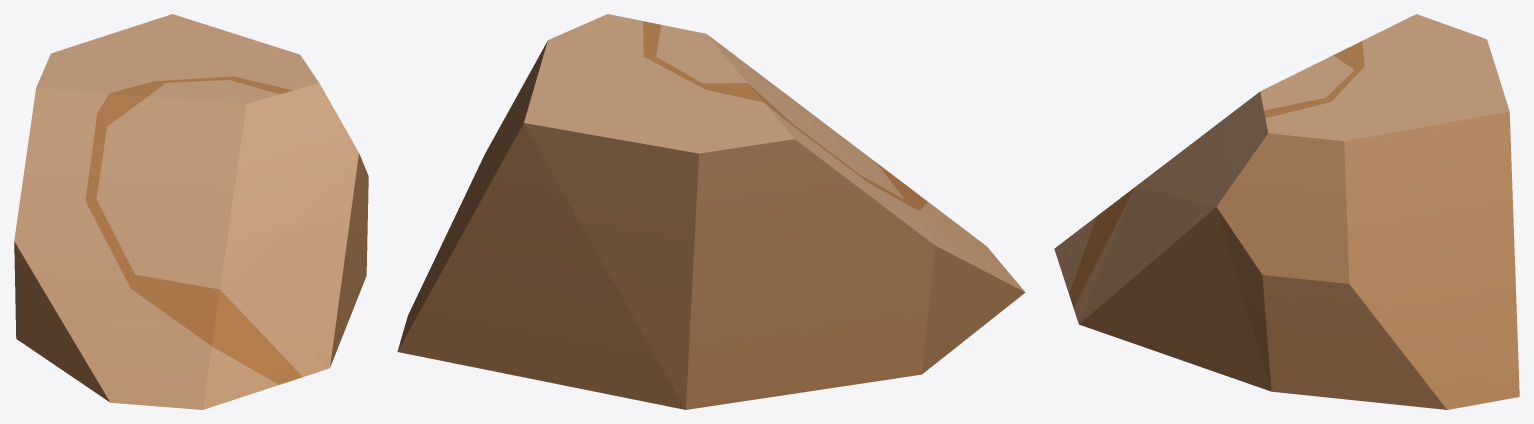
The model's file is ancient-stone-3.glb.
The picture shows the model from 3 angles, left to right: view 1: azimuth 30°, elevation 25°; view 2: azimuth 150°, elevation 25°; view 3: azimuth 270°, elevation 25°; orthographic projection. The views are drawn at different scales.
Visible parts, largest first — view 1: ancient stone 3; view 2: ancient stone 3; view 3: ancient stone 3.
Part boxes in pixels (left/top/right/bottom): ancient stone 3: left=14, top=14, right=368, bottom=409; ancient stone 3: left=397, top=14, right=1025, bottom=409; ancient stone 3: left=1054, top=14, right=1519, bottom=409.
Bounding box in the file's own units: 1.57 × 0.8394 × 1.53.
Materials: 1 (1 with a texture image).
